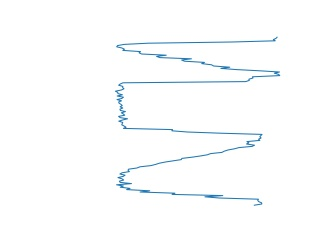distributaryChannelFill: (114, 73, 267, 145)
mouthBar: (114, 33, 282, 80)
underwaterDistributaryChannel: (115, 136, 265, 208)
